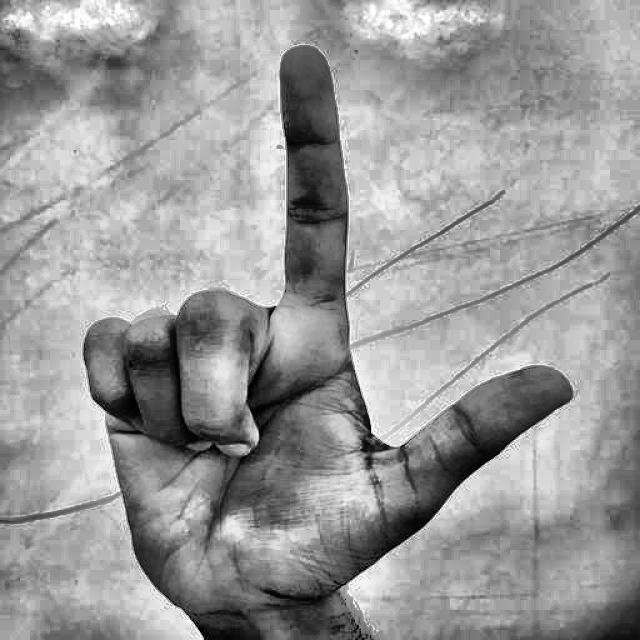La: (35, 25, 581, 640)
